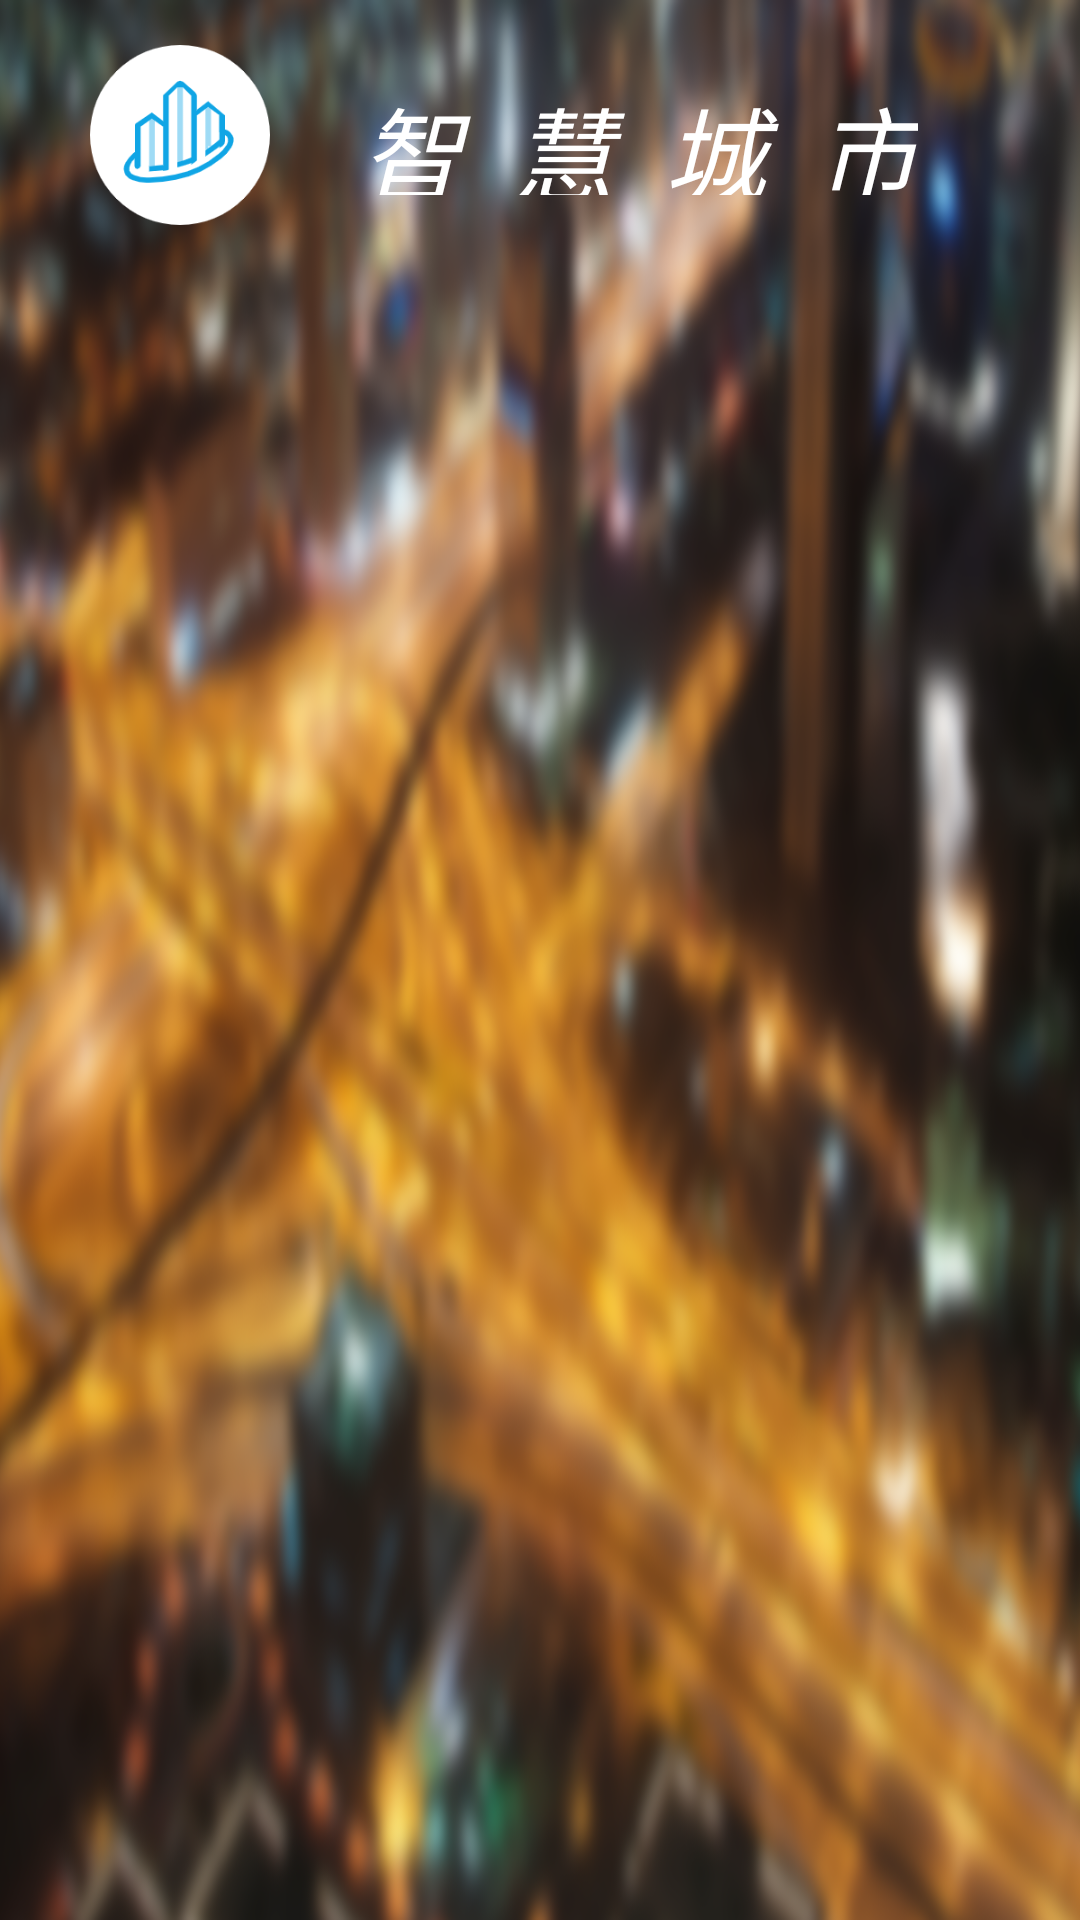

Named icons in this screenshot (1080 x 1920) and their centers, point (x, y):
city: point (180, 135)
